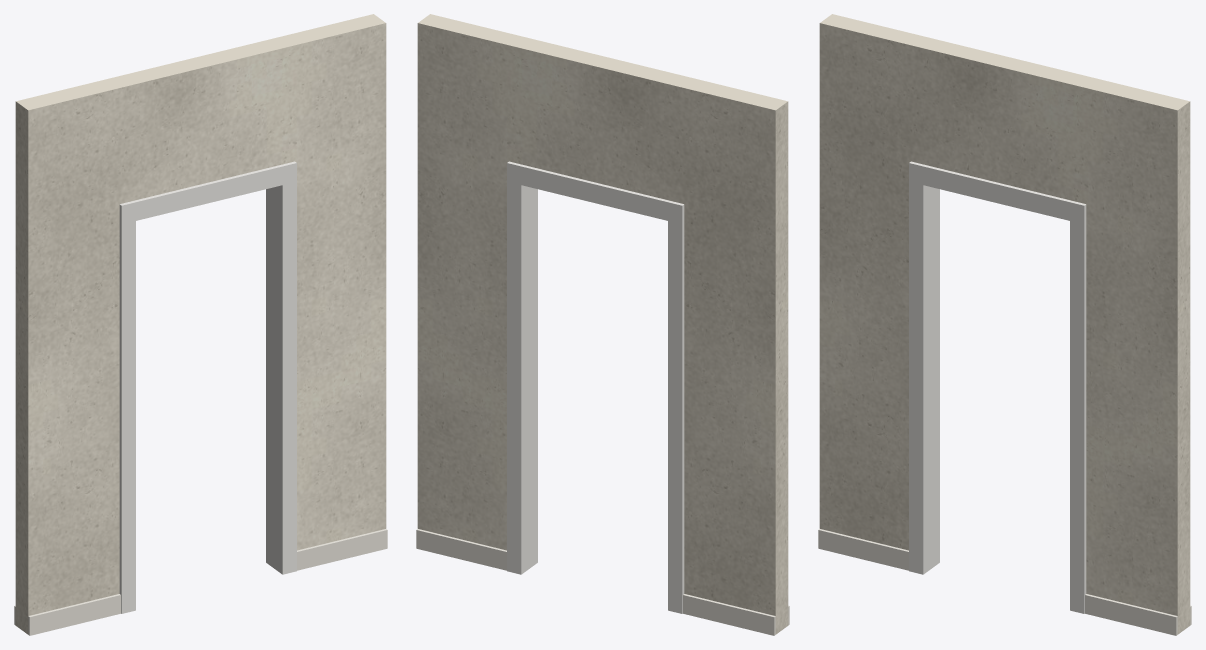
File: interior_wall_doorway.glb
3 views of the same model, side by side, from view 1: azimuth 30°, elevation 25°; view 2: azimuth 150°, elevation 25°; view 3: azimuth 330°, elevation 25° (orthographic).
Visible parts, largest first — view 1: interior_wall_doorway_plaster, interior_wall_doorway_frame, interior_wall_doorway_trim; view 2: interior_wall_doorway_plaster, interior_wall_doorway_frame, interior_wall_doorway_trim; view 3: interior_wall_doorway_plaster, interior_wall_doorway_frame, interior_wall_doorway_trim.
Part boxes in pixels (x1,y1,x2,y2): interior_wall_doorway_plaster: (15,14,386,634); interior_wall_doorway_frame: (119,161,296,613); interior_wall_doorway_trim: (14,529,387,635); interior_wall_doorway_plaster: (417,14,788,634); interior_wall_doorway_frame: (507,161,684,613); interior_wall_doorway_trim: (416,529,789,635); interior_wall_doorway_plaster: (819,14,1190,634); interior_wall_doorway_frame: (909,161,1086,613); interior_wall_doorway_trim: (818,529,1191,635).
Size of the model in its own units: 2 by 2.8 by 0.16.
Materials: 3 (1 with a texture image).
